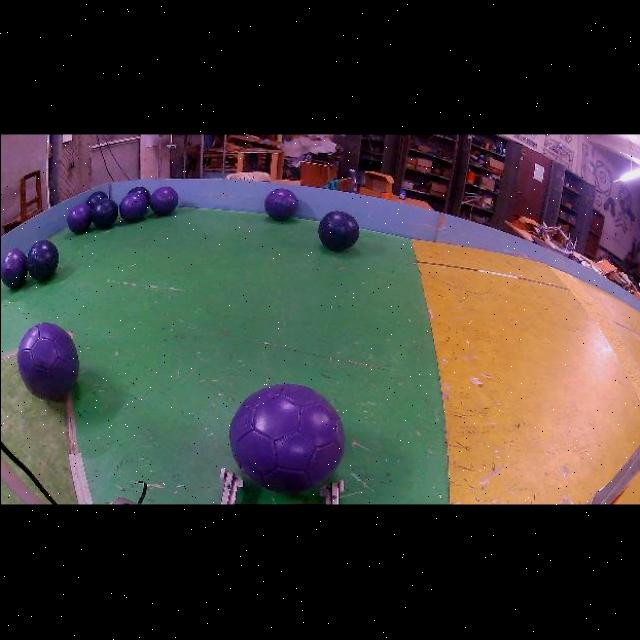B: (317, 208, 358, 250), (26, 238, 57, 280), (91, 197, 118, 228), (127, 184, 150, 203), (86, 189, 108, 206)
P: (234, 385, 348, 494), (16, 322, 78, 400), (263, 186, 297, 219), (0, 247, 26, 287), (118, 190, 147, 220), (149, 184, 177, 214), (66, 202, 91, 232)
